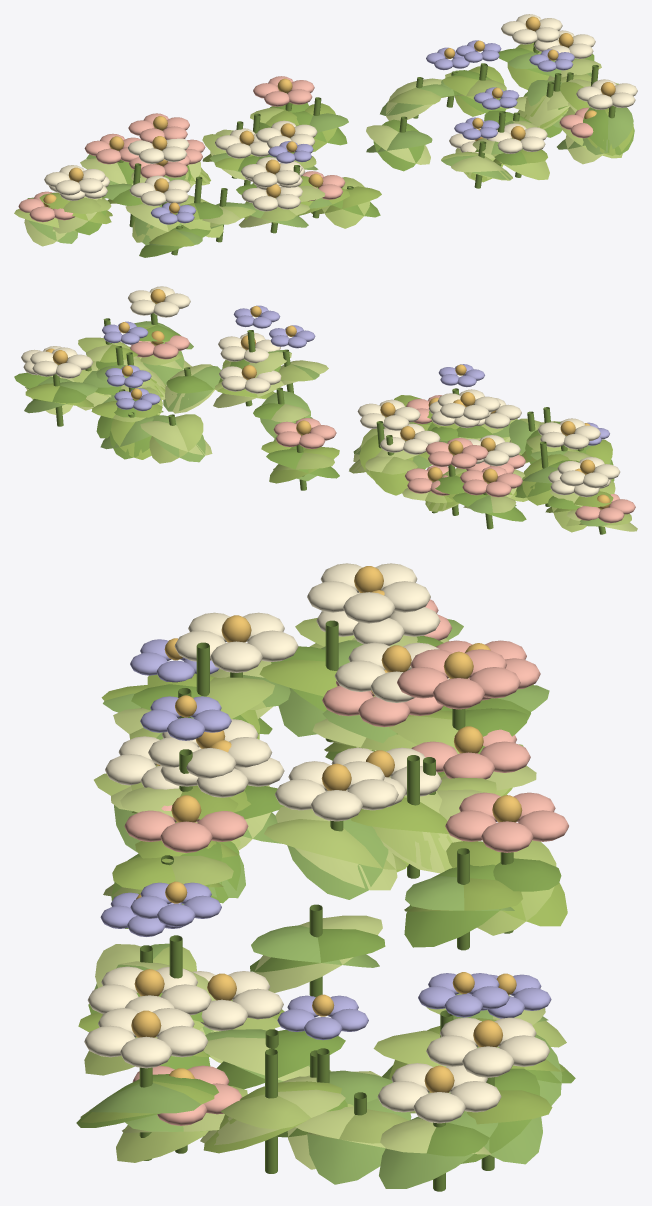
3 views of the same model, one above another, from view 1: azimuth 30°, elevation 25°; view 2: azimuth 150°, elevation 25°; view 3: azimuth 270°, elevation 25° (orthographic). The views are drawn at different scales.
Parts seen in each view (by area): view 1: Border leaf.042, Border leaf.069, Border leaf.043, Border leaf.071, Border leaf.017, Border leaf.052, Border leaf.070, Border leaf.016, Border leaf.014, Border leaf.051, Border leaf.082, Border leaf.053 (+29 smaller); view 2: Border leaf.051, Border leaf.052, Border leaf.040, Border leaf, Border leaf.059, Border leaf.001, Border leaf.012, Border leaf.070, Border leaf.003, Border leaf.029, Border leaf.041, Border leaf.039 (+20 smaller); view 3: Border leaf.006, Border leaf.023, Border leaf.088, Border leaf.085, Border leaf.008, Border leaf.041, Border leaf.069, Border leaf.070, Border leaf.071, Border leaf.042, Border leaf.007, Border leaf.001 (+81 smaller).
Boxes of the visible parts, bbox=[...] form: Border leaf.042: bbox=[582, 107, 633, 154]; Border leaf.069: bbox=[366, 125, 430, 164]; Border leaf.043: bbox=[583, 107, 634, 155]; Border leaf.071: bbox=[373, 119, 424, 171]; Border leaf.017: bbox=[322, 177, 370, 228]; Border leaf.052: bbox=[386, 78, 441, 120]; Border leaf.070: bbox=[366, 130, 432, 152]; Border leaf.016: bbox=[311, 186, 381, 214]; Border leaf.014: bbox=[507, 42, 549, 89]; Border leaf.051: bbox=[388, 88, 441, 104]; Border leaf.082: bbox=[451, 155, 505, 172]; Border leaf.053: bbox=[380, 84, 451, 115]; Border leaf.051: bbox=[149, 414, 203, 463]; Border leaf.052: bbox=[140, 421, 212, 455]; Border leaf.040: bbox=[163, 366, 220, 411]; Border leaf: bbox=[266, 448, 339, 478]; Border leaf.059: bbox=[522, 454, 569, 505]; Border leaf.001: bbox=[269, 447, 339, 483]; Border leaf.012: bbox=[24, 381, 97, 413]; Border leaf.070: bbox=[260, 391, 310, 438]; Border leaf.003: bbox=[370, 457, 416, 495]; Border leaf.029: bbox=[110, 419, 151, 459]; Border leaf.041: bbox=[166, 375, 215, 393]; Border leaf.039: bbox=[165, 364, 215, 413]; Border leaf.006: bbox=[264, 819, 406, 869]; Border leaf.023: bbox=[307, 1098, 411, 1184]; Border leaf.088: bbox=[404, 864, 500, 947]; Border leaf.085: bbox=[379, 1111, 498, 1188]; Border leaf.008: bbox=[287, 818, 388, 899]; Border leaf.041: bbox=[216, 1029, 345, 1089]; Border leaf.069: bbox=[254, 915, 382, 992]; Border leaf.070: bbox=[251, 925, 379, 967]; Border leaf.071: bbox=[250, 929, 385, 972]; Border leaf.042: bbox=[89, 1083, 201, 1113]; Border leaf.007: bbox=[275, 806, 397, 890]; Border leaf.001: bbox=[446, 841, 567, 926].
Size of the model in its own units: 1.66 by 0.237 by 0.6113.
